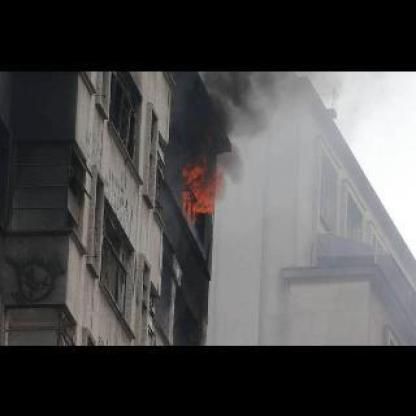fire: (180, 154, 218, 223)
